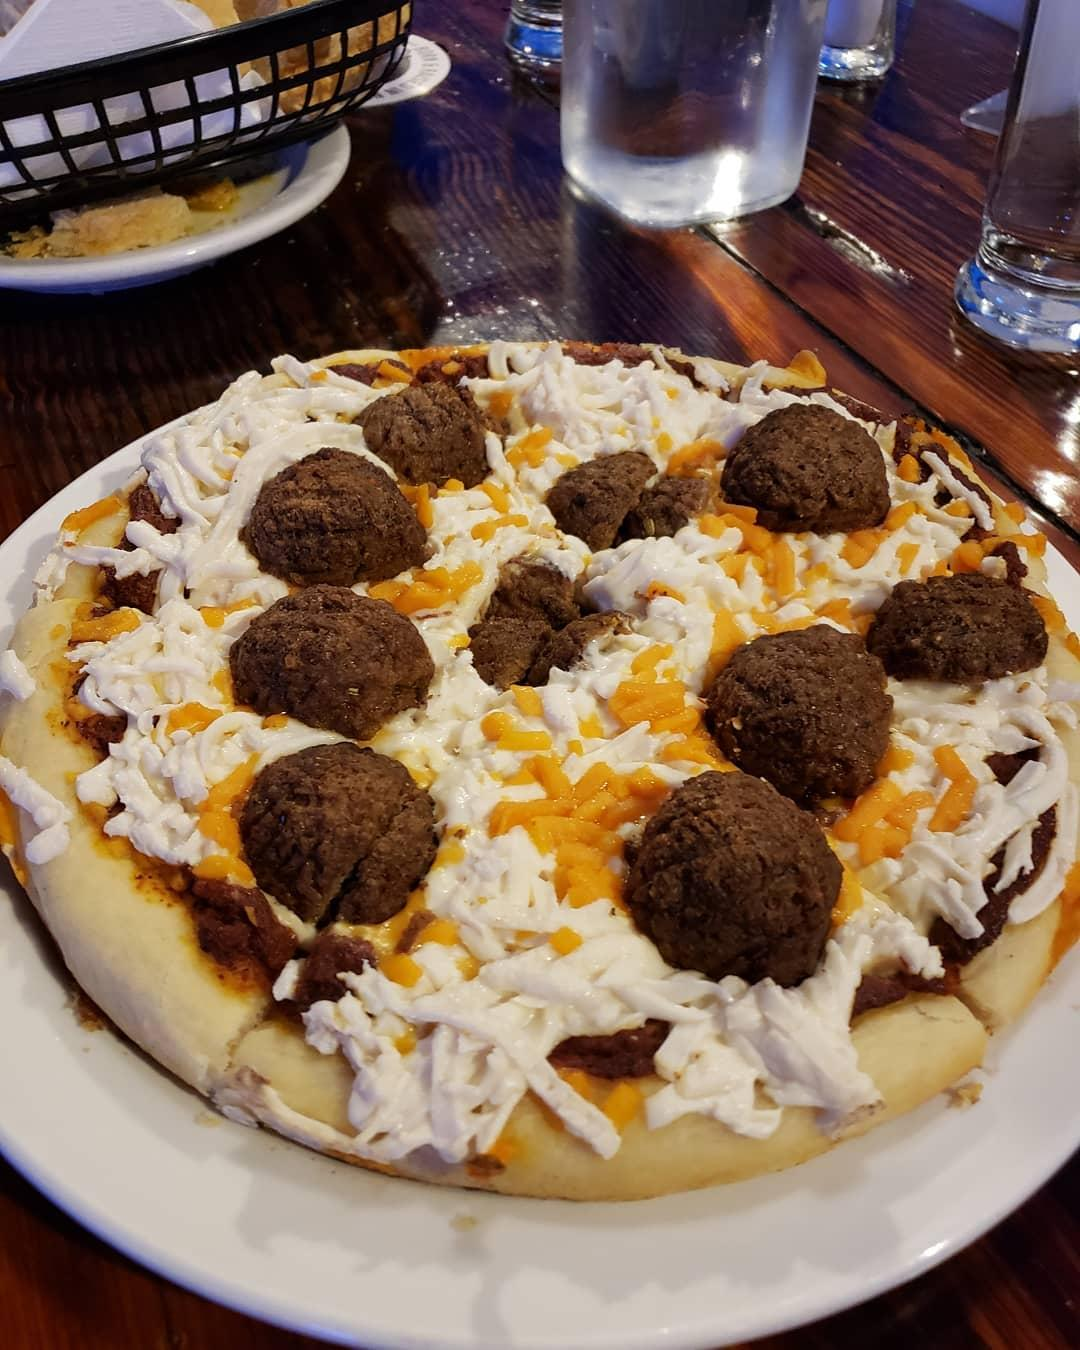Pizza: (0, 332, 1080, 1206)
